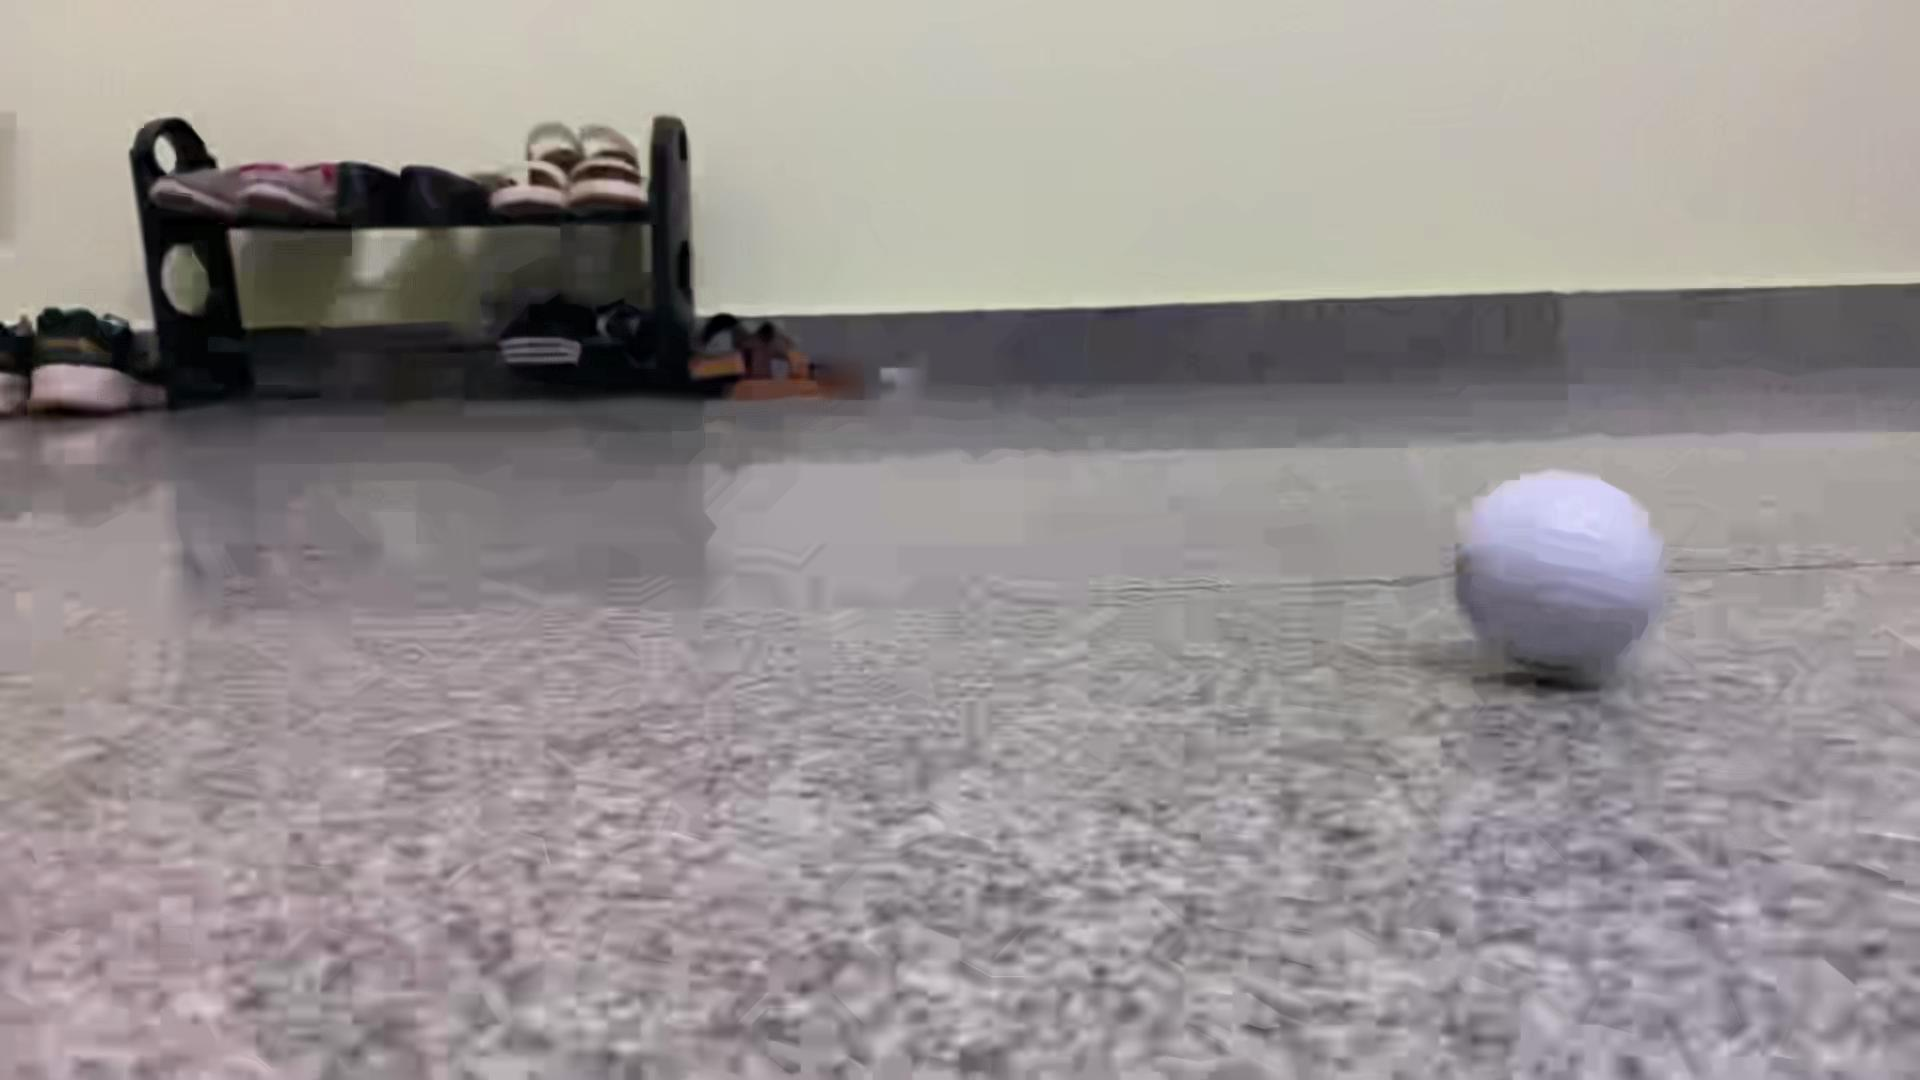golfball: (1452, 467, 1664, 674)
